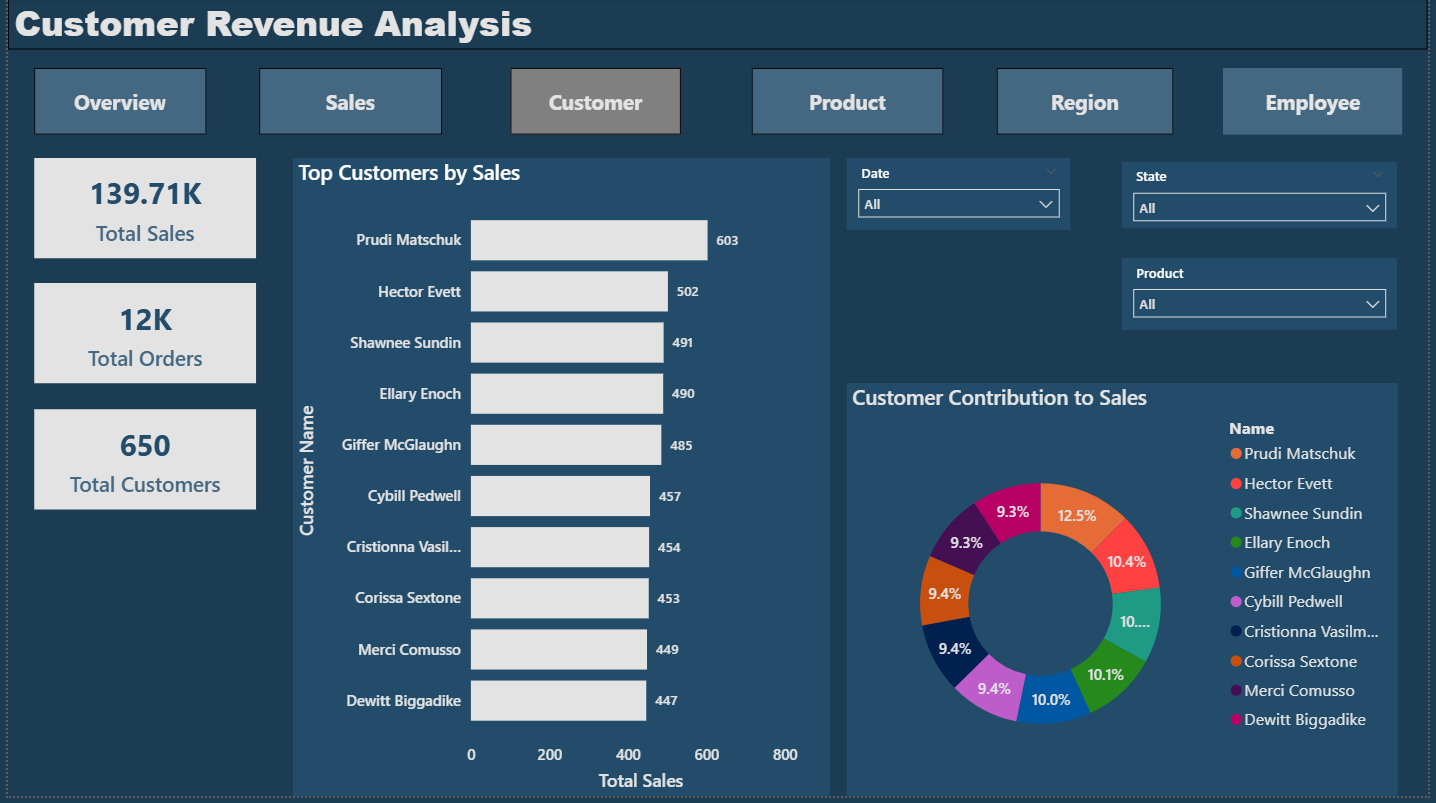

The page's visual inventory and layout, read from the dashboard file:
{"tool":"powerbi","page":{"name":"Customer Dashboard","canvas":[1280,720],"ordinal":3},"visuals":[{"type":"textbox","title":"Customer Revenue Analysis","box":[0,0,1280.3,46.7],"z":0},{"type":"card","fields":{"Values":["sales.Total Sales"]},"box":[23.3,144.1,200.3,90],"z":1000},{"type":"card","fields":{"Values":["sales.Total Orders"]},"box":[23.3,256.6,200.3,90.6],"z":2000},{"type":"card","fields":{"Values":["sales.Total Customers"]},"box":[23.3,370.5,200.3,90.6],"z":3000},{"type":"clusteredBarChart","title":"Top Customers by Sales","fields":{"Category":["customer.name"],"Y":["sales.Total Sales"]},"box":[256.6,144.1,484.4,576.3],"z":4000},{"type":"donutChart","title":"Customer Contribution to Sales","fields":{"Category":["customer.name"],"Y":["sales.Total Sales"]},"box":[756.1,347.2,496.7,373.2],"z":5000},{"type":"actionButton","box":[226.4,63.1,164.7,60.4],"z":6000},{"type":"actionButton","box":[452.8,63.1,153.7,60.4],"z":7000},{"type":"actionButton","box":[671,63.1,172.9,60.4],"z":8000},{"type":"actionButton","box":[891.9,63.1,159.2,60.4],"z":9000},{"type":"actionButton","title":"Over","box":[23.3,63.1,155.1,60.4],"z":10000},{"type":"actionButton","box":[1095,63.1,161.9,60.4],"z":11000},{"type":"slicer","fields":{"Values":["sales.date"]},"box":[756.1,144.1,201.7,64.5],"z":12000},{"type":"slicer","fields":{"Values":["location.state"]},"box":[1004.5,148.2,248.4,60.4],"z":13000},{"type":"slicer","fields":{"Values":["products.product"]},"box":[1004.5,234.6,248.4,64.5],"z":14000}]}

Visuals, with their boxes in screenshot pixels (x1, y1, x2, y2), scaled from the page's 1280x720 canvas onto the 1436x803 screenshot:
"Customer Revenue Analysis" textbox: [x1=0, y1=0, x2=1435, y2=52]
card - sales.Total Sales: [x1=26, y1=161, x2=251, y2=261]
card - sales.Total Orders: [x1=26, y1=286, x2=251, y2=387]
card - sales.Total Customers: [x1=26, y1=413, x2=251, y2=514]
"Top Customers by Sales" clusteredBarChart: [x1=288, y1=161, x2=831, y2=802]
"Customer Contribution to Sales" donutChart: [x1=848, y1=387, x2=1405, y2=802]
actionButton: [x1=254, y1=70, x2=439, y2=138]
actionButton: [x1=508, y1=70, x2=680, y2=138]
actionButton: [x1=753, y1=70, x2=947, y2=138]
actionButton: [x1=1001, y1=70, x2=1179, y2=138]
"Over" actionButton: [x1=26, y1=70, x2=200, y2=138]
actionButton: [x1=1228, y1=70, x2=1410, y2=138]
slicer - sales.date: [x1=848, y1=161, x2=1075, y2=233]
slicer - location.state: [x1=1127, y1=165, x2=1406, y2=233]
slicer - products.product: [x1=1127, y1=262, x2=1406, y2=334]
